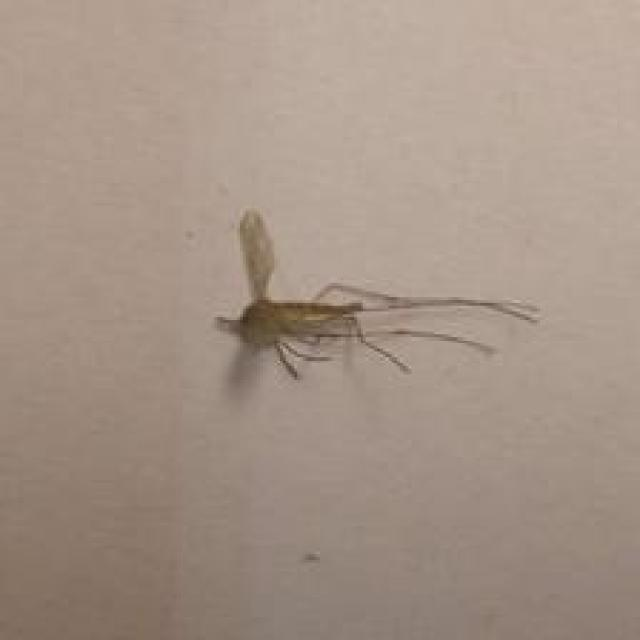Culex: (213, 207, 541, 382)
